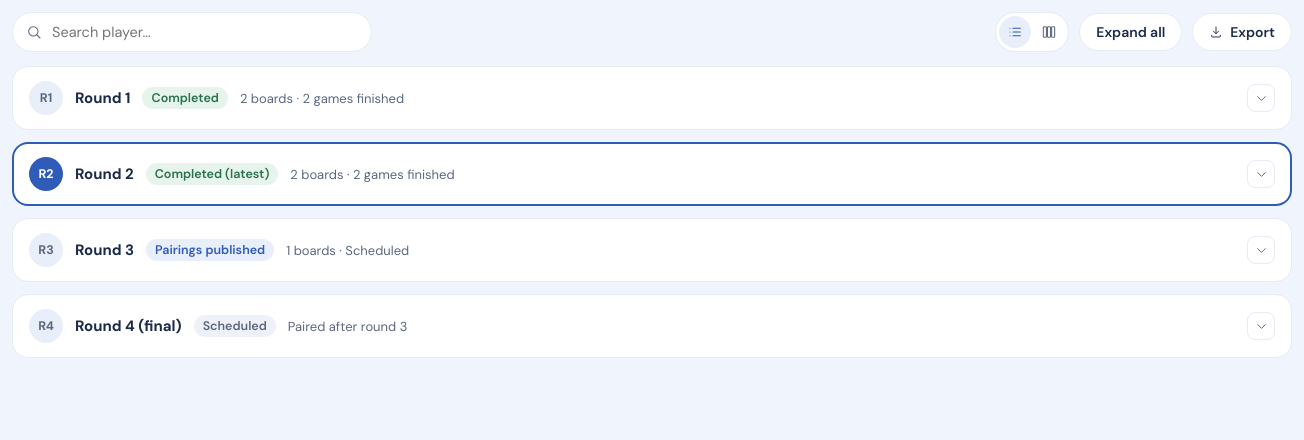
Test case: which rounds are open › explains an unpublished round rather than showing an empty table
Click the button "R4 Round 4 (final) Scheduled Paired after round 3".
click(46, 326)  # box 13,295 -> 1291,357
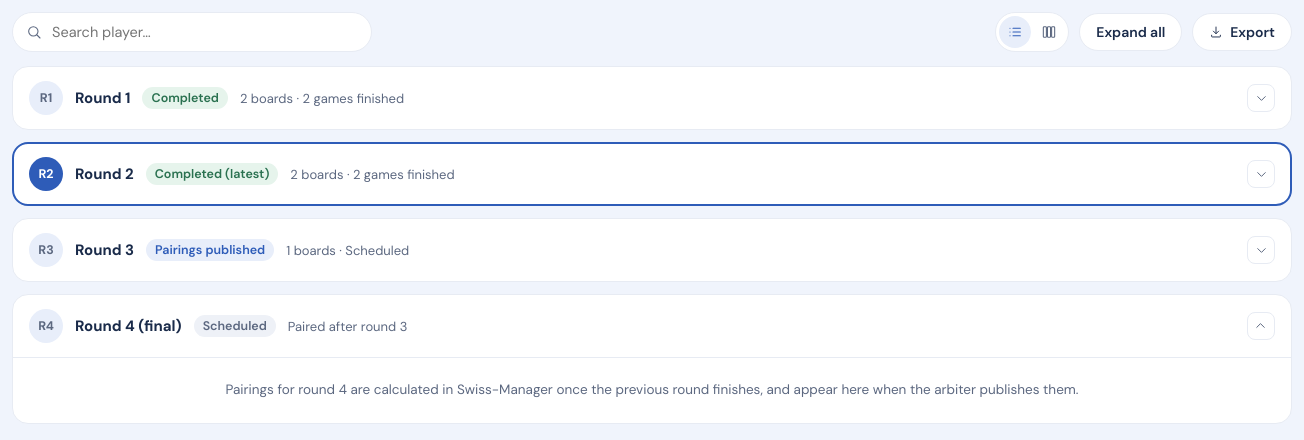
Check: the text "Pairings for round 4 are calculated in Swiss-Manager" is shown, box 226,381 -> 1078,398
